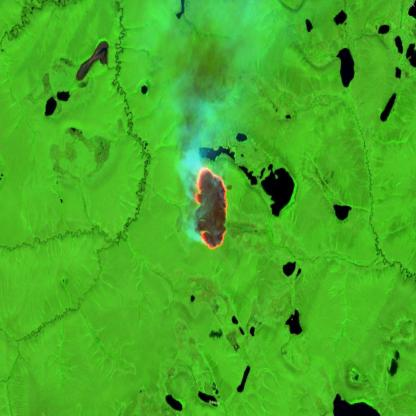fire: (190, 162, 232, 262)
